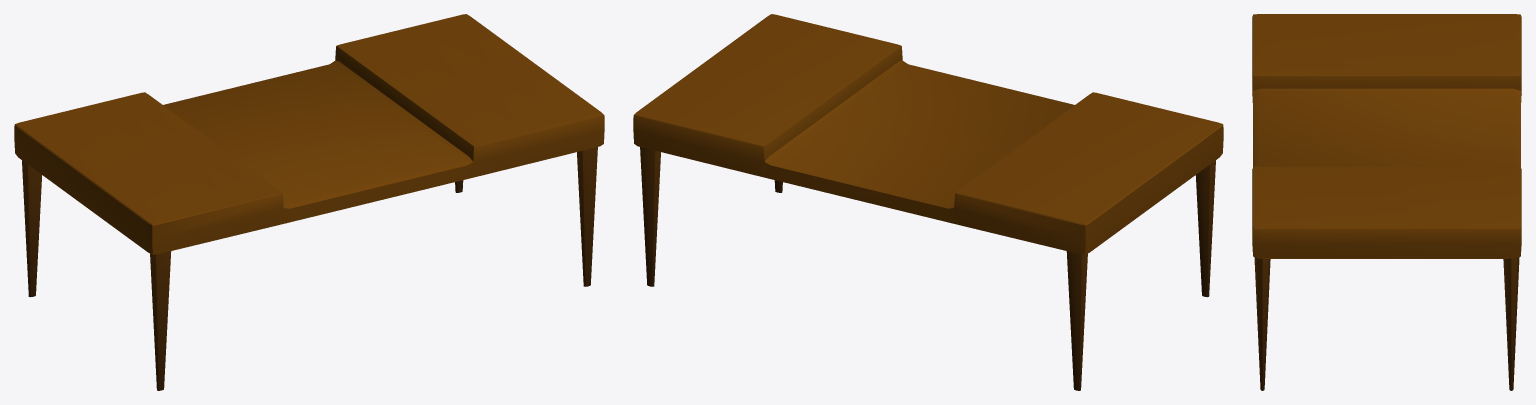
The model's file is Mesa3.fbx.
3 views of the same model, side by side, from view 1: azimuth 30°, elevation 25°; view 2: azimuth 150°, elevation 25°; view 3: azimuth 270°, elevation 25° (orthographic). The views are drawn at different scales.
Parts seen in each view (by area): view 1: Mesa3.001; view 2: Mesa3.001; view 3: Mesa3.001.
Part boxes in pixels (x1,y1,x2,y2): Mesa3.001: (14,14,604,390); Mesa3.001: (633,14,1223,390); Mesa3.001: (1252,14,1521,390).
Bounding box in the file's own units: 8.93 × 3.24 × 4.73.
1 material, 1 textured.
